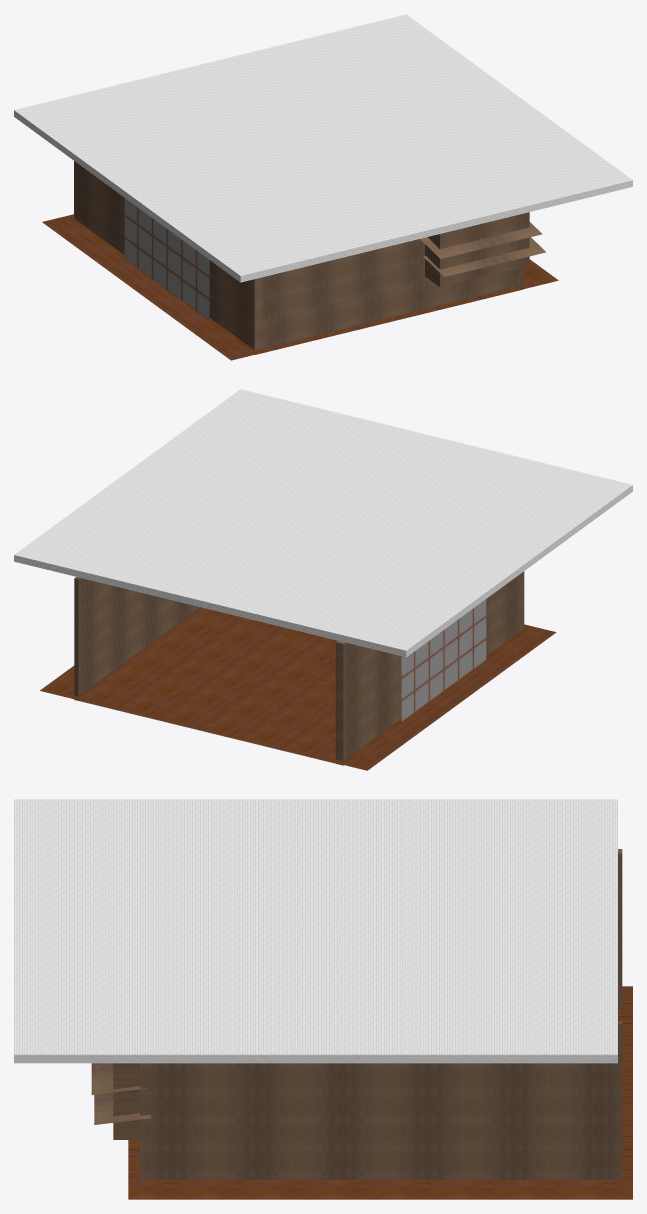
Rendered from House.glb.
3 views of the same model, one above another, from view 1: azimuth 30°, elevation 25°; view 2: azimuth 150°, elevation 25°; view 3: azimuth 270°, elevation 25° (orthographic). The views are drawn at different scales.
Parts seen in each view (by area): view 1: Roof, House, Floor, Window, Shelf2, Shelf1; view 2: Roof, Floor, House, Window; view 3: Roof, House, Floor, Shelf1, Shelf2.
Boxes of the visible parts, x1=… form: Roof: x1=14, y1=14, x2=632, y2=282; House: x1=74, y1=161, x2=529, y2=354; Floor: x1=42, y1=214, x2=558, y2=360; Window: x1=124, y1=198, x2=209, y2=320; Shelf2: x1=420, y1=222, x2=542, y2=258; Shelf1: x1=423, y1=237, x2=545, y2=276; Roof: x1=14, y1=389, x2=632, y2=657; Floor: x1=40, y1=607, x2=556, y2=770; House: x1=74, y1=571, x2=524, y2=765; Window: x1=401, y1=599, x2=486, y2=721; Roof: x1=14, y1=799, x2=617, y2=1063; House: x1=113, y1=849, x2=622, y2=1179; Floor: x1=128, y1=986, x2=632, y2=1199; Shelf1: x1=94, y1=1092, x2=151, y2=1124; Shelf2: x1=91, y1=1063, x2=147, y2=1094.
Bounding box in the file's own units: 9.59 × 3.38 × 9.83.
Materials: 4 (4 with a texture image).
